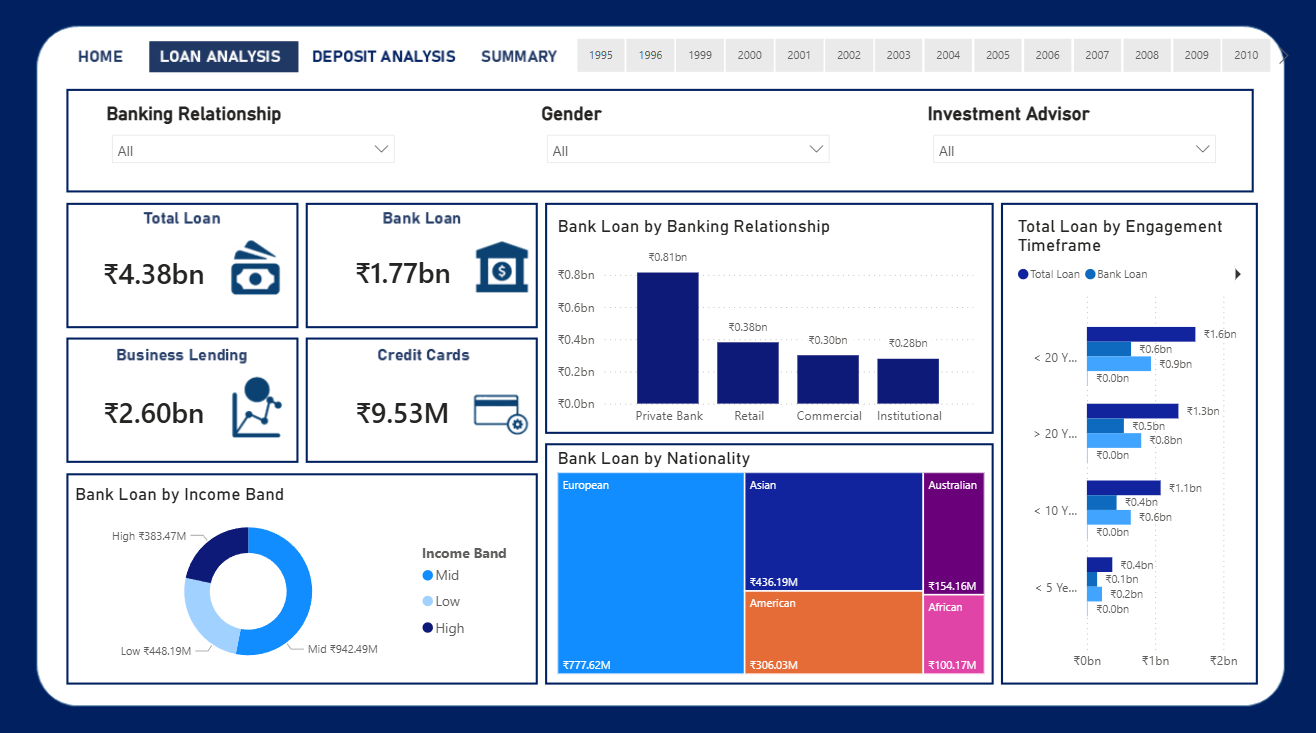

The dashboard page shown, as its layout file describes it:
{"tool":"powerbi","page":{"name":"Loan Analysis","canvas":[1280,720],"ordinal":1},"visuals":[{"type":"card","fields":{"Values":["DAX Measures.Total Loan"]},"box":[72.7,224,161.8,90.3],"z":0},{"type":"card","fields":{"Values":["DAX Measures.Bank Loan"]},"box":[307.2,224,172.4,89.1],"z":1000},{"type":"card","fields":{"Values":["DAX Measures.Credit Cards"]},"box":[307.2,360,171.2,89.1],"z":2000},{"type":"card","fields":{"Values":["DAX Measures.Business Lending"]},"box":[72.7,360,161.8,89.1],"z":3000},{"type":"slicer","title":"Banking Relationship","fields":{"Values":["Banking Relationship.Banking Relationship"]},"box":[102.3,103.4,292.9,75.7],"z":4000},{"type":"slicer","title":"Gender","fields":{"Values":["Gender.Gender"]},"box":[522.7,103.4,292.9,75.7],"z":5000},{"type":"slicer","title":"Investment Advisor","fields":{"Values":["Investment Advisor.Investment Advisor"]},"box":[895,103.4,292.9,75.7],"z":6000},{"type":"donutChart","fields":{"Category":["Clients - Banking.Income Band"],"Y":["DAX Measures.Bank Loan"]},"box":[72.7,471.4,444.4,188.8],"z":7000},{"type":"clusteredBarChart","title":"Total Loan by Engagement Timeframe","fields":{"Category":["Clients - Banking.Engagement Timeframe"],"Y":["DAX Measures.Total Loan","DAX Measures.Bank Loan","DAX Measures.Business Lending","DAX Measures.Credit Cards"]},"box":[981.5,212.2,236.9,447.9],"z":8000},{"type":"treemap","fields":{"Group":["Clients - Banking.Nationality"],"Values":["DAX Measures.Bank Loan"]},"box":[538.2,436.2,422.1,224],"z":9000},{"type":"lineClusteredColumnComboChart","fields":{"Y":["DAX Measures.Bank Loan"],"Category":["Banking Relationship.Banking Relationship"]},"box":[538.2,212.2,411.6,212.2],"z":10000},{"type":"actionButton","box":[72.8,44.2,58.5,31],"z":11000},{"type":"actionButton","box":[306.9,44.7,119.4,31],"z":12000},{"type":"actionButton","box":[471.6,44.2,83.6,31],"z":13000},{"type":"slicer","fields":{"Values":["Clients - Banking.Joined Bank.Variation.Date Hierarchy.Year"]},"box":[535.7,35,719,45.8],"z":14000}]}

Visuals, with their boxes in screenshot pixels (x1, y1, x2, y2), scaled from the page's 1280x720 canvas onto the 1316x733 screenshot:
card - DAX Measures.Total Loan: 75,228,241,320
card - DAX Measures.Bank Loan: 316,228,493,319
card - DAX Measures.Credit Cards: 316,366,492,457
card - DAX Measures.Business Lending: 75,366,241,457
"Banking Relationship" slicer: 105,105,406,182
"Gender" slicer: 537,105,839,182
"Investment Advisor" slicer: 920,105,1221,182
donutChart - Clients - Banking.Income Band x DAX Measures.Bank Loan: 75,480,532,672
"Total Loan by Engagement Timeframe" clusteredBarChart: 1009,216,1253,672
treemap - Clients - Banking.Nationality x DAX Measures.Bank Loan: 553,444,987,672
lineClusteredColumnComboChart - DAX Measures.Bank Loan x Banking Relationship.Banking Relationship: 553,216,977,432
actionButton: 75,45,135,77
actionButton: 316,46,438,77
actionButton: 485,45,571,77
slicer - Clients - Banking.Joined Bank.Variation.Date Hierarchy.Year: 551,36,1290,82
